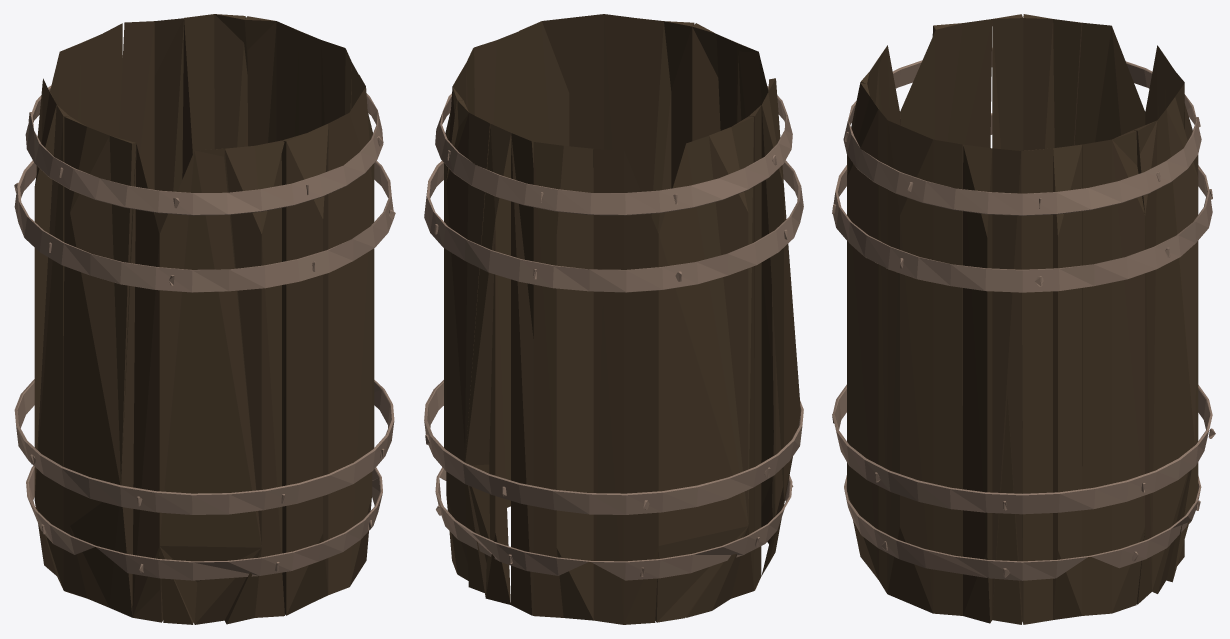
Rendered from barrel-oak.lod1.glb.
3 renders of one model, left to right at view 1: azimuth 30°, elevation 25°; view 2: azimuth 150°, elevation 25°; view 3: azimuth 270°, elevation 25°, orthographic.
Visible parts, largest first — view 1: Barrel_Bands_Metal053C_2K-PNG_DISPLACEMENT_0; view 2: Barrel_Bands_Metal053C_2K-PNG_DISPLACEMENT_0; view 3: Barrel_Bands_Metal053C_2K-PNG_DISPLACEMENT_0.
Boxes of the visible parts, x1,y1,x2,y2 form: Barrel_Bands_Metal053C_2K-PNG_DISPLACEMENT_0: (14,14,395,624); Barrel_Bands_Metal053C_2K-PNG_DISPLACEMENT_0: (424,14,803,624); Barrel_Bands_Metal053C_2K-PNG_DISPLACEMENT_0: (832,14,1215,624).
Size of the model in its own units: 0.7279 by 0.9996 by 0.7334.
